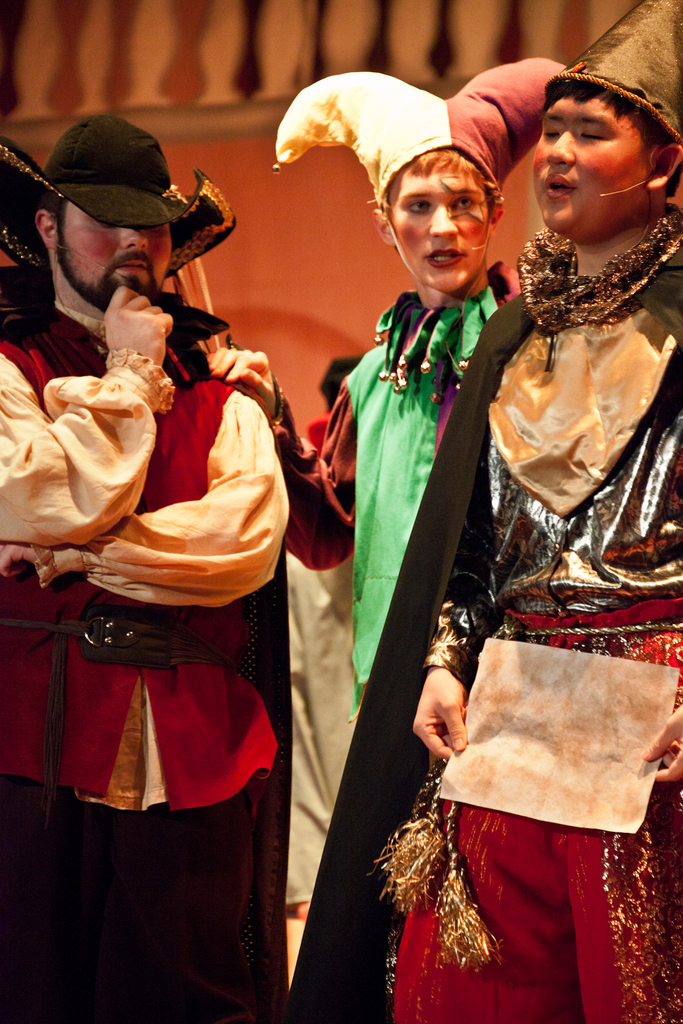Human_hand: (425, 673, 487, 781), (103, 283, 174, 367), (210, 346, 279, 417), (638, 703, 682, 783), (0, 541, 39, 580)
